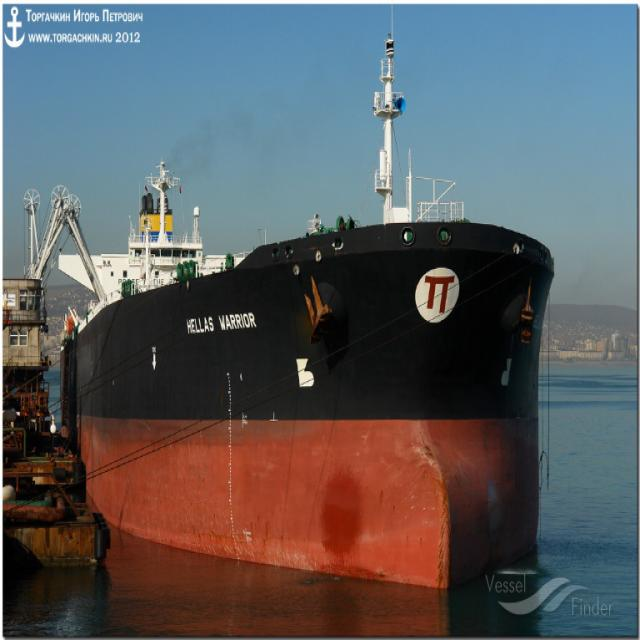Oil Tanker: (62, 190, 553, 584)
